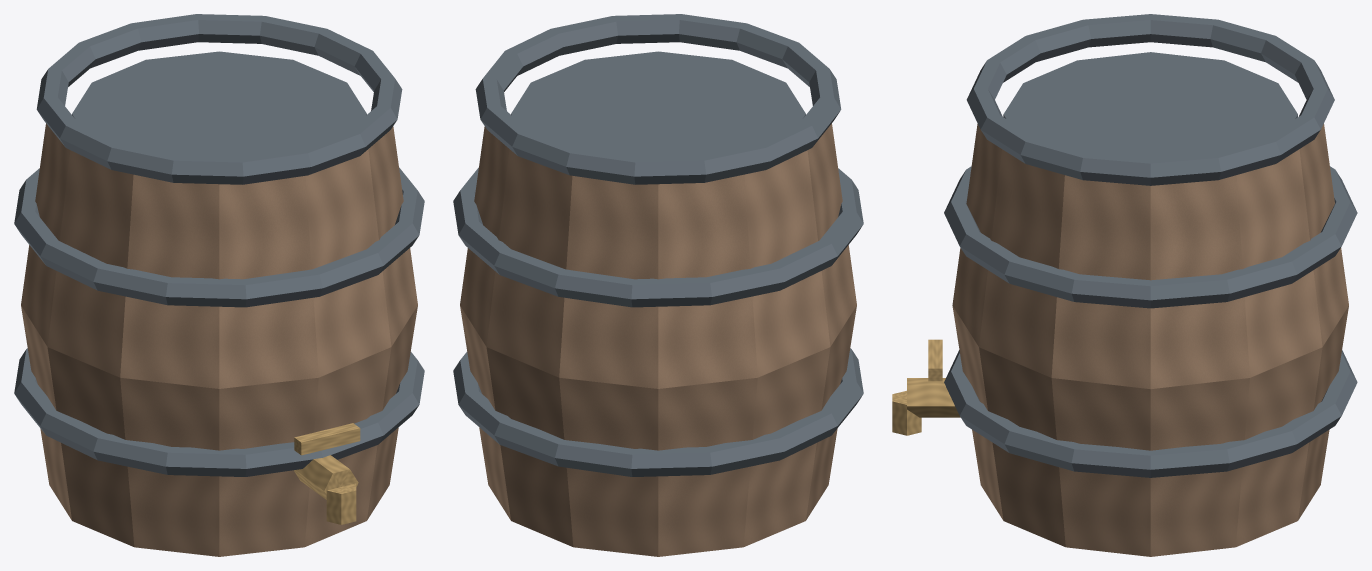
Rendered from lantern-watch-staved-rain-barrel__91.glb.
The picture shows the model from 3 angles, left to right: view 1: azimuth 30°, elevation 25°; view 2: azimuth 150°, elevation 25°; view 3: azimuth 270°, elevation 25°; orthographic projection.
Parts seen in each view (by area): view 1: lantern-watch-rain-barrel; view 2: lantern-watch-rain-barrel; view 3: lantern-watch-rain-barrel.
Boxes of the visible parts, <box> form: lantern-watch-rain-barrel: <box>14,14,424,556</box>; lantern-watch-rain-barrel: <box>453,14,863,556</box>; lantern-watch-rain-barrel: <box>892,14,1357,556</box>.
Size of the model in its own units: 0.73 by 0.7717 by 0.821.
Materials: 3 (2 with a texture image).
